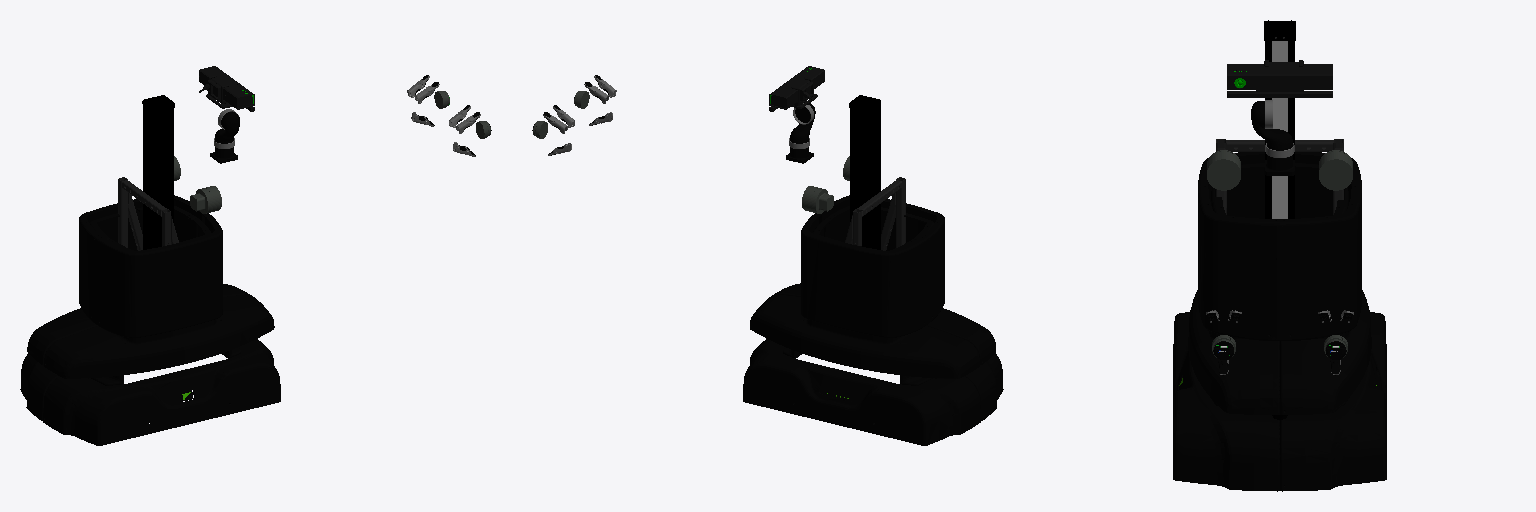
--- Render facts (derived) ---
Views: 3 orthographic renders of the robot side by side, from view 1: azimuth 30°, elevation 25°; view 2: azimuth 150°, elevation 25°; view 3: azimuth 270°, elevation 25°.
Model movo with 50 links and 49 joints (22 revolute, 2 prismatic, 25 fixed), rooted at base_link, posed all joints at 0.
Links seen in each view (by area): view 1: lower_body_link, mid_body_link, linear_actuator_fixed_link, kinect2_link, right_base_link, pan_link; view 2: lower_body_link, mid_body_link, linear_actuator_fixed_link, kinect2_link, left_base_link, pan_link; view 3: lower_body_link, mid_body_link, linear_actuator_fixed_link, kinect2_link, pan_link, right_base_link, left_base_link, pan_base_link.
Boxes of the visible links, <box> form: lower_body_link: <box>20,206,280,445</box>; mid_body_link: <box>79,195,222,337</box>; linear_actuator_fixed_link: <box>118,95,178,250</box>; kinect2_link: <box>199,66,254,111</box>; right_base_link: <box>190,186,221,213</box>; pan_link: <box>215,109,239,143</box>; lower_body_link: <box>743,206,1003,445</box>; mid_body_link: <box>801,195,944,337</box>; linear_actuator_fixed_link: <box>845,95,905,250</box>; kinect2_link: <box>769,66,824,111</box>; left_base_link: <box>802,186,833,213</box>; pan_link: <box>790,102,815,143</box>; lower_body_link: <box>1173,163,1386,491</box>; mid_body_link: <box>1198,152,1361,340</box>; linear_actuator_fixed_link: <box>1216,20,1343,218</box>; kinect2_link: <box>1227,60,1332,97</box>; pan_link: <box>1251,100,1292,150</box>; right_base_link: <box>1207,150,1240,190</box>; left_base_link: <box>1319,150,1352,190</box>; pan_base_link: <box>1265,143,1294,175</box>.
Size in the robot's own frame: 1.59 by 0.5097 by 1.06 metres.
24 mesh visuals loaded from 22 distinct referenced files (11 Collada DAE); not drawn: 18 (reference not matched to a file when rendering).

URDF robot description (movo):
<?xml version="1.0" ?>
<!-- =================================================================================== -->
<!-- |    This document was autogenerated by xacro from movo.urdf.xacro                | -->
<!-- |    EDITING THIS FILE BY HAND IS NOT RECOMMENDED                                 | -->
<!-- =================================================================================== -->
<!--
Software License Agreement (BSD)
\file      movo.urdf.xacro
\authors   Patrick Hussey
\copyright Copyright (c) 2017, Kinova Robotics inc. All rights reserved.
Redistribution and use in source and binary forms, with or without modification,
are permitted provided that the following conditions are met:
    * Redistributions of source code must retain the above copyright notice,
      this list of conditions and the following disclaimer.
    * Redistributions in binary form must reproduce the above copyright notice,
      this list of conditions and the following disclaimer in the documentation
      and/or other materials provided with the distribution.
    * Neither the name of the copyright holder nor the names of its contributors
      may be used to endorse or promote products derived from this software
      without specific prior written permission.
THIS SOFTWARE IS PROVIDED BY THE COPYRIGHT HOLDERS AND CONTRIBUTORS
"AS IS" AND ANY EXPRESS OR IMPLIED WARRANTIES, INCLUDING, BUT NOT
LIMITED TO, THE IMPLIED WARRANTIES OF MERCHANTABILITY AND FITNESS FOR
A PARTICULAR PURPOSE ARE DISCLAIMED. IN NO EVENT SHALL THE COPYRIGHT HOLDER OR
CONTRIBUTORS BE LIABLE FOR ANY DIRECT, INDIRECT, INCIDENTAL, SPECIAL,
EXEMPLARY, OR CONSEQUENTIAL DAMAGES (INCLUDING, BUT NOT LIMITED TO,
PROCUREMENT OF SUBSTITUTE GOODS OR SERVICES; LOSS OF USE, DATA, OR
PROFITS; OR BUSINESS INTERRUPTION) HOWEVER CAUSED AND ON ANY THEORY OF
LIABILITY, WHETHER IN CONTRACT, STRICT LIABILITY, OR TORT (INCLUDING
NEGLIGENCE OR OTHERWISE) ARISING IN ANY WAY OUT OF THE USE OF THIS
SOFTWARE, EVEN IF ADVISED OF THE POSSIBILITY OF SUCH DAMAGE.
-->
<robot name="movo" xmlns:xacro="http://ros.org/wiki/xacro">
  <!-- Included URDF/XACRO Files -->
  <gazebo>
    <plugin filename="libgazebo_ros_control.so" name="gazebo_ros_control">
      <robotNamespace>/</robotNamespace>
    </plugin>
    <plugin filename="libgazebo_ros_force_based_move.so" name="object_controller">
      <robotNamespace>/</robotNamespace>
      <commandTopic>/movo/cmd_vel</commandTopic>
      <odometryTopic>/movo/odometry/wheel_odometry</odometryTopic>
      <odometryFrame>odom</odometryFrame>
      <odometryRate>100.0</odometryRate>
      <cmdVelTimeOut>0.2</cmdVelTimeOut>
      <robotBaseFrame>base_link</robotBaseFrame>
      <publishOdometryTf>0</publishOdometryTf>
      <yaw_velocity_p_gain>500.0</yaw_velocity_p_gain>
      <x_velocity_p_gain>10000.0</x_velocity_p_gain>
      <y_velocity_p_gain>10000.0</y_velocity_p_gain>
    </plugin>
    <plugin filename="libgazebo_ros_p3d.so" name="gazebo_ros_p3d">
      <bodyName>base_link</bodyName>
      <topicName>ground_truth_odom</topicName>
      <alwaysOn>true</alwaysOn>
      <updateRate>100.0</updateRate>
    </plugin>
  </gazebo>
  <!-- Base link is the center of the robot's chassis between the motors projected on the ground -->
  <link name="base_link"/>
  <gazebo reference="base_link">
    <mu1>0.0</mu1>
  </gazebo>
  <joint name="base_chassis_joint" type="fixed">
    <origin rpy="0 0 0" xyz="0 0 0.0762"/>
    <parent link="base_link"/>
    <child link="base_chassis_link"/>
  </joint>
  <link name="base_chassis_link">
    <inertial>
      <mass value="44.2877"/>
      <origin xyz="-0.009506 -0.013039 0.032319"/>
      <inertia ixx="0.000165" ixy="0" ixz="0" iyx="0" iyy="0.000559" iyz="0" izx="0" izy="0" izz="0.000714"/>
    </inertial>
    <collision>
      <geometry>
        <mesh filename="meshes/movo_components/collision/vector_base_collision.stl"/>
      </geometry>
    </collision>
    <visual>
      <origin rpy="0 0 0" xyz="0 0 0"/>
      <geometry>
        <mesh filename="meshes/movo_components/visual/vector_base.dae"/>
      </geometry>
    </visual>
  </link>
  <gazebo reference="base_chassis_link">
    <laserRetro>0</laserRetro>
  </gazebo>
  <gazebo reference="base_chassis_link">
    <mu1>0.0</mu1>
  </gazebo>
  <joint name="linear_actuator_fixed_joint" type="fixed">
    <origin rpy="0 0 0" xyz="0 0 0"/>
    <parent link="base_chassis_link"/>
    <child link="linear_actuator_fixed_link"/>
  </joint>
  <link name="linear_actuator_fixed_link">
    <inertial>
      <mass value="15.877331"/>
      <origin xyz="0.013724 0.000002 0.509500"/>
      <inertia ixx="0.962473" ixy="0.000047" ixz="0.053722" iyx="0.000047" iyy="0.968691" iyz="-0.000058" izx="0.053722" izy="-0.000058" izz="0.098853"/>
    </inertial>
    <collision>
      <geometry>
        <mesh filename="meshes/movo_components/collision/movo_fixed_body_collision.stl"/>
      </geometry>
    </collision>
    <visual>
      <origin rpy="0 0 0" xyz="0 0 0"/>
      <geometry>
        <mesh filename="meshes/movo_components/visual/movo_fixed_payload.dae"/>
      </geometry>
    </visual>
  </link>
  <gazebo reference="linear_actuator_fixed_link">
    <laserRetro>0</laserRetro>
  </gazebo>
  <joint name="linear_joint" type="prismatic">
    <parent link="linear_actuator_fixed_link"/>
    <child link="linear_actuator_link"/>
    <origin rpy="0 0 0" xyz="0.0771402 0 0.3938763"/>
    <axis xyz="0 0 1"/>
    <limit effort="1000" lower="0.0" upper="0.472" velocity="0.20"/>
    <dynamics damping="0.0" friction="0.0"/>
  </joint>
  <link name="linear_actuator_link">
    <visual>
      <geometry>
        <mesh filename="meshes/movo_components/visual/movo_moving_payload.dae"/>
      </geometry>
    </visual>
    <collision>
      <geometry>
        <mesh filename="meshes/movo_components/collision/movo_upper_body_collision.stl"/>
      </geometry>
    </collision>
    <inertial>
      <mass value="12.926242"/>
      <origin xyz="-0.075467 -0.004693 0.397754"/>
      <inertia ixx="0.300410" ixy="-0.010043" ixz="-0.054146" iyx="-0.010043" iyy="0.296460" iyz="-0.024977" izx="-0.054146" izy="-0.024977" izz="0.294778"/>
    </inertial>
  </link>
  <gazebo reference="linear_actuator_link">
    <laserRetro>0</laserRetro>
  </gazebo>
  <transmission name="linear_trans">
    <type>transmission_interface/SimpleTransmission</type>
    <joint name="linear_joint">
      <hardwareInterface>PositionJointInterface</hardwareInterface>
    </joint>
    <actuator name="linear_motor">
      <mechanicalReduction>1</mechanicalReduction>
    </actuator>
  </transmission>
  <link name="sic_imu_frame"/>
  <joint name="sic_imu_joint" type="fixed">
    <origin rpy="3.14159 0 1.570795" xyz="0.0326421 0.0899448 0.0082008"/>
    <parent link="base_chassis_link"/>
    <child link="sic_imu_frame"/>
  </joint>
  <gazebo>
    <plugin filename="libhector_gazebo_ros_imu.so" name="sic_imu_controller">
      <alwaysOn>1</alwaysOn>
      <updateRate>50.0</updateRate>
      <bodyName>sic_imu_frame</bodyName>
      <topicName>/movo/feedback/sic_imu</topicName>
      <accelDrift>0.0005 0.0005 0.0005</accelDrift>
      <accelGaussianNoise>0.0005 0.0005 0.0005</accelGaussianNoise>
      <rateDrift>0.0005 0.0005 0.0005</rateDrift>
      <rateGaussianNoise>0.00005 0.00005 0.00005 </rateGaussianNoise>
      <headingDrift>0.00005</headingDrift>
      <headingGaussianNoise>0.00005</headingGaussianNoise>
    </plugin>
  </gazebo>
  <joint name="front_laser_joint" type="fixed">
    <origin rpy="3.14159 0 0" xyz="0.3375 0 0.1439106"/>
    <parent link="base_chassis_link"/>
    <child link="front_laser_link"/>
  </joint>
  <link name="front_laser_link">
    <visual>
      <geometry>
        <mesh filename="meshes/sensors/visual/sick_tim.dae"/>
      </geometry>
    </visual>
    <collision>
      <geometry>
        <box size="0.1 0.1 0.1"/>
      </geometry>
    </collision>
  </link>
  <gazebo reference="front_laser_link">
    <sensor name="front_laser" type="ray">
      <pose>0 0 0 0 0 0</pose>
      <visualize>false</visualize>
      <update_rate>15</update_rate>
      <ray>
        <scan>
          <horizontal>
            <samples>720</samples>
            <resolution>1</resolution>
            <min_angle>-2.0</min_angle>
            <max_angle>2.0</max_angle>
          </horizontal>
        </scan>
        <range>
          <min>0.1</min>
          <max>25.0</max>
          <resolution>0.01</resolution>
        </range>
        <noise>
          <type>gaussian</type>
          <mean>0.0</mean>
          <stddev>0.01</stddev>
        </noise>
      </ray>
      <plugin filename="libgazebo_ros_laser.so" name="front_laser_node">
        <topicName>/movo/front_scan</topicName>
        <frameName>front_laser_link</frameName>
      </plugin>
    </sensor>
  </gazebo>
  <joint name="rear_laser_joint" type="fixed">
    <origin rpy="3.14159 0 3.14159" xyz="-0.3375 0 0.1439106"/>
    <parent link="base_chassis_link"/>
    <child link="rear_laser_link"/>
  </joint>
  <link name="rear_laser_link">
    <visual>
      <geometry>
        <mesh filename="meshes/sensors/visual/sick_tim.dae"/>
      </geometry>
    </visual>
    <collision>
      <geometry>
        <box size="0.1 0.1 0.1"/>
      </geometry>
    </collision>
  </link>
  <gazebo reference="rear_laser_link">
    <sensor name="rear_laser" type="ray">
      <pose>0 0 0 0 0 0</pose>
      <visualize>false</visualize>
      <update_rate>15</update_rate>
      <ray>
        <scan>
          <horizontal>
            <samples>720</samples>
            <resolution>1</resolution>
            <min_angle>-2.0</min_angle>
            <max_angle>2.0</max_angle>
          </horizontal>
        </scan>
        <range>
          <min>0.1</min>
          <max>25.0</max>
          <resolution>0.01</resolution>
        </range>
        <noise>
          <type>gaussian</type>
          <mean>0.0</mean>
          <stddev>0.01</stddev>
        </noise>
      </ray>
      <plugin filename="libgazebo_ros_laser.so" name="rear_laser_node">
        <topicName>/movo/rear_scan</topicName>
        <frameName>rear_laser_link</frameName>
      </plugin>
    </sensor>
  </gazebo>
  <joint name="pan_base_joint" type="fixed">
    <origin rpy="0 0 0" xyz="0.19735 0 0.3449888"/>
    <parent link="linear_actuator_link"/>
    <child link="pan_base_link"/>
  </joint>
  <link name="pan_base_link">
    <visual>
      <geometry>
        <mesh filename="meshes/pan_tilt/visual/pan_tilt_base.dae"/>
      </geometry>
    </visual>
    <collision>
      <geometry>
        <mesh filename="meshes/pan_tilt/collision/pan_tilt_base.stl"/>
      </geometry>
    </collision>
    <inertial>
      <mass value="0.271282"/>
      <origin xyz="0.000098 -0.000007 0.034804"/>
      <inertia ixx="0.000158" ixy="0.000000" ixz="-0.000001" iyx="0.000000" iyy="0.000151" iyz="0.000000" izx="-0.000001" izy="0.000000" izz="0.000150"/>
    </inertial>
  </link>
  <joint name="pan_joint" type="revolute">
    <origin rpy="3.14159 0 0" xyz="0 0 0.05525"/>
    <axis xyz="0 0 1"/>
    <parent link="pan_base_link"/>
    <child link="pan_link"/>
    <limit effort="7.0" lower="-1.570796326794897" upper="1.570796326794897" velocity="0.907571211"/>
  </joint>
  <transmission name="pan_trans" type="SimpleTransmission">
    <type>transmission_interface/SimpleTransmission</type>
    <joint name="pan_joint">
      <hardwareInterface>PositionJointInterface</hardwareInterface>
    </joint>
    <actuator name="pan_actuator">
      <mechanicalReduction>1</mechanicalReduction>
    </actuator>
  </transmission>
  <link name="pan_link">
    <visual>
      <geometry>
        <mesh filename="meshes/pan_tilt/visual/pan_link.dae"/>
      </geometry>
    </visual>
    <collision>
      <origin rpy="0 0 0" xyz="0 0 0"/>
      <geometry>
        <mesh filename="meshes/pan_tilt/collision/pan_link.stl"/>
      </geometry>
    </collision>
    <inertial>
      <mass value="0.470548"/>
      <origin xyz="-0.000036 0.021015 -0.052191"/>
      <inertia ixx="0.000957" ixy="0.000000" ixz="0.000000" iyx="0.000000" iyy="0.000805" iyz="-0.000328" izx="0.000000" izy="-0.000328" izz="0.000353"/>
    </inertial>
  </link>
  <joint name="tilt_joint" type="revolute">
    <origin rpy="-1.570795 1.570795 0" xyz="0 0.026 -0.09075"/>
    <axis xyz="0 0 1"/>
    <parent link="pan_link"/>
    <child link="tilt_link"/>
    <limit effort="7.0" lower="-1.570796326794897" upper="1.570796326794897" velocity="0.907571211"/>
  </joint>
  <transmission name="tilt_trans" type="SimpleTransmission">
    <type>transmission_interface/SimpleTransmission</type>
    <joint name="tilt_joint">
      <hardwareInterface>PositionJointInterface</hardwareInterface>
    </joint>
    <actuator name="tilt_actuator">
      <mechanicalReduction>1</mechanicalReduction>
    </actuator>
  </transmission>
  <link name="tilt_link">
    <visual>
      <geometry>
        <mesh filename="meshes/pan_tilt/visual/tilt_link.dae"/>
      </geometry>
    </visual>
    <collision>
      <geometry>
        <mesh filename="meshes/pan_tilt/collision/tilt_link.stl"/>
      </geometry>
    </collision>
    <inertial>
      <mass value="0.434513"/>
      <origin xyz="0.037380 0.005753 -0.019367"/>
      <inertia ixx="0.000418" ixy="0.000123" ixz="-0.000065" iyx="0.000123" iyy="0.001134" iyz="-0.000003" izx="-0.000065" izy="-0.000003" izz="0.000967"/>
    </inertial>
  </link>
  <joint name="kinect2_joint" type="fixed">
    <origin rpy="-1.570795 0 -1.570795" xyz="0.05825 -0.0105875 -0.026"/>
    <parent link="tilt_link"/>
    <child link="kinect2_link"/>
  </joint>
  <link name="kinect2_link">
    <inertial>
      <mass value="1.4"/>
      <origin xyz="-0.000036 0.021015 -0.052191"/>
      <inertia ixx="0.0006835" ixy="-0.000042" ixz="0.000010" iyx="-0.000042" iyy="0.001197" iyz="0.000006" izx="0.000010" izy="0.000006" izz="0.007020"/>
    </inertial>
    <visual>
      <geometry>
        <mesh filename="meshes/sensors/visual/kinect_one.dae"/>
      </geometry>
    </visual>
    <collision>
      <geometry>
        <mesh filename="meshes/sensors/collision/kinect_one_collision.stl"/>
      </geometry>
    </collision>
  </link>
  <link name="kinect2_ir_link"/>
  <joint name="kinect2_ir_joint" type="fixed">
    <parent link="kinect2_link"/>
    <child link="kinect2_ir_link"/>
    <origin rpy="0 0 0" xyz="0.0245 -0.03325  0.04201"/>
  </joint>
  <link name="kinect2_ir_optical_frame"/>
  <joint name="kinect2_ir_optical_frame_joint" type="fixed">
    <origin rpy="-1.570795 0 -1.570795" xyz="0 0 0"/>
    <parent link="kinect2_ir_link"/>
    <child link="kinect2_ir_optical_frame"/>
  </joint>
  <link name="kinect2_rgb_link"/>
  <joint name="kinect2_rgb_joint" type="fixed">
    <parent link="kinect2_ir_link"/>
    <child link="kinect2_rgb_link"/>
    <origin rpy="0 0 0" xyz="0 -0.06175  0"/>
  </joint>
  <link name="kinect2_rgb_optical_frame"/>
  <joint name="kinect2_rgb_optical_joint" type="fixed">
    <parent link="kinect2_rgb_link"/>
    <child link="kinect2_rgb_optical_frame"/>
    <origin rpy="-1.570795 0 -1.570795" xyz="0 0 0"/>
  </joint>
  <gazebo reference="kinect2_ir_link">
    <sensor name="kinect2_ir_sensor" type="depth">
      <always_on>true</always_on>
      <update_rate>30.0</update_rate>
      <camera>
        <horizontal_fov>1.22172944444</horizontal_fov>
        <image>
          <format>L8</format>
          <width>512</width>
          <height>424</height>
        </image>
        <clip>
          <near>0.01</near>
          <far>100</far>
        </clip>
      </camera>
      <plugin filename="libgazebo_ros_openni_kinect.so" name="kinect2_ir_link_controller">
        <baseline>0.2</baseline>
        <alwaysOn>true</alwaysOn>
        <updateRate>1.0</updateRate>
        <cameraName>kinect2/sd/image_ir</cameraName>
        <imageTopicName>/kinect2/sd/image_ir</imageTopicName>
        <cameraInfoTopicName>/kinect2/sd/camera_info</cameraInfoTopicName>
        <depthImageTopicName>/kinect2/sd/image_depth</depthImageTopicName>
        <depthImageCameraInfoTopicName>/kinect2/sd/depth/camera_info</depthImageCameraInfoTopicName>
        <pointCloudTopicName>/kinect2/sd/points</pointCloudTopicName>
        <frameName>kinect2_ir_optical_frame</frameName>
        <pointCloudCutoff>0.1</pointCloudCutoff>
        <pointCloudCutoffMax>12.0</pointCloudCutoffMax>
        <distortionK1>0.0</distortionK1>
        <distortionK2>0.0</distortionK2>
        <distortionK3>0.0</distortionK3>
        <distortionT1>0.0</distortionT1>
        <distortionT2>0.0</distortionT2>
        <CxPrime>0</CxPrime>
        <Cx>0</Cx>
        <Cy>0</Cy>
        <focalLength>0</focalLength>
        <hackBaseline>0</hackBaseline>
      </plugin>
    </sensor>
    <material value="Gazebo/Red"/>
  </gazebo>
  <joint name="lower_body_joint" type="fixed">
    <origin rpy="0 0 0" xyz="0 0 0"/>
    <parent link="base_chassis_link"/>
    <child link="lower_body_link"/>
  </joint>
  <link name="lower_body_link">
    <inertial>
      <mass value="7.753378"/>
      <origin xyz="0.000143 0.000727 0.188079"/>
      <inertia ixx="0.339365" ixy="0.000325" ixz="0.000146" iyx="0.000325" iyy="0.590290" iyz="-0.001078" izx="0.000146" izy="-0.001078" izz="0.588946"/>
    </inertial>
    <visual>
      <origin rpy="0 0 0" xyz="0 0 0"/>
      <geometry>
        <mesh filename="meshes/movo_body/movo_lower_body.dae"/>
      </geometry>
    </visual>
  </link>
  <joint name="upper_body_joint" type="fixed">
    <origin rpy="0 0 0" xyz="0 0 0"/>
    <parent link="linear_actuator_link"/>
    <child link="upper_body_link"/>
  </joint>
  <link name="upper_body_link">
    <inertial>
      <mass value="6.246912"/>
      <origin xyz="-0.080608 0.000290 0.286026"/>
      <inertia ixx="0.425973" ixy="0.000022" ixz="-0.015916" iyx="0.000022" iyy="0.439921" iyz="-0.000555" izx="-0.015916" izy="-0.000555" izz="0.305785"/>
    </inertial>
    <visual>
      <origin rpy="0 0 0" xyz="0 0 0"/>
      <geometry>
        <mesh filename="meshes/movo_body/movo_upper_body.dae"/>
      </geometry>
    </visual>
  </link>
  <joint name="mid_body_joint" type="prismatic">
    <parent link="base_chassis_link"/>
    <child link="mid_body_link"/>
    <origin rpy="0 0 0" xyz="0.0771402 0 0.3938763"/>
    <axis xyz="0 0 1"/>
    <limit effort="1000" lower="0.0" upper="0.2545608" velocity="0.20"/>
    <dynamics damping="0.0" friction="0.0"/>
    <mimic joint="linear_joint" multiplier="0.5" offset="0.0"/>
  </joint>
  <link name="mid_body_link">
    <inertial>
      <mass value="2.246837"/>
      <origin xyz="-0.077140 0.000000 0.026602"/>
      <inertia ixx="0.067276" ixy="0.000000" ixz="0.000000" iyx="0.000000" iyy="0.073946" iyz="0.000000" izx="0.000000" izy="0.000000" izz="0.102656"/>
    </inertial>
    <visual>
      <origin rpy="0 0 0" xyz="0 0 0"/>
      <geometry>
        <mesh filename="meshes/movo_body/movo_mid_body.dae"/>
      </geometry>
    </visual>
  </link>
  <gazebo reference="mid_body_link">
    <gravity>0</gravity>
  </gazebo>
  <gazebo>
    <!-- loading plugin: mimic joints works in gazebo now -->
    <plugin filename="libroboticsgroup_gazebo_mimic_joint_plugin.so" name="mid_body_mimic">
      <joint>linear_joint</joint>
      <mimicJoint>mid_body_joint</mimicJoint>
      <multiplier>0.5</multiplier>
      <offset>0.0</offset>
      <maxEffort>100000.0</maxEffort>
    </plugin>
  </gazebo>
  <joint name="right_kinova_joint" type="fixed">
    <parent link="linear_actuator_link"/>
    <child link="right_base_link"/>
    <origin rpy="-1.570796325 0 -1.570796325" xyz="0.0261046 -0.13335 0.2799937"/>
  </joint>
  <link name="right_base_link">
    <visual>
      <geometry>
        <mesh filename="meshes/manipulation/jaco/visual/base.dae"/>
      </geometry>
    </visual>
    <collision>
      <geometry>
        <mesh filename="meshes/manipulation/jaco/collision/base.stl"/>
      </geometry>
    </collision>
    <inertial>
      <mass value="0.649618"/>
      <origin xyz="-0.000146 0.0 0.031039"/>
      <inertia ixx="0.000652" ixy="-0.000000" ixz="0.000001" iyx="0.000000" iyy="0.000646" iyz="0.000000" izx="0.000001" izy="0.000000" izz="0.000480"/>
    </inertial>
  </link>
  <gazebo reference="right_base_link">
    <implicitSpringDamper>1</implicitSpringDamper>
    <kp>1000000.0</kp>
    <kd>100.0</kd>
    <mu1>1.0</mu1>
    <mu2>1.0</mu2>
    <maxVel>100.0</maxVel>
    <minDepth>0.001</minDepth>
  </gazebo>
  <joint name="right_shoulder_pan_joint" type="revolute">
    <parent link="right_base_link"/>
    <child link="right_shoulder_link"/>
    <origin rpy="0 3.14159265 0" xyz="0 0 0.0625"/>
    <axis xyz="0 0 1"/>
    <limit effort="18000.0" lower="-3.14159265" upper="3.14159265" velocity="0.691150384"/>
    <dynamics damping="0.01" friction="0.0"/>
  </joint>
  <link name="right_shoulder_link">
    <visual>
      <geometry>
        <mesh filename="meshes/manipulation/jaco/visual/shoulder_7dof.dae"/>
      </geometry>
    </visual>
    <collision>
      <geometry>
        <mesh filename="meshes/manipulation/jaco/collision/shoulder_7dof.stl"/>
      </geometry>
    </collision>
    <inertial>
      <mass value="0.824524"/>
      <origin xyz="0.000018 -0.004667 -0.060609"/>
      <inertia ixx="0.002561" ixy="0.000000" ixz="0.000001" iyx="0.000000" iyy="0.002653" iyz="0.000212" izx="0.000001" izy="0.000212" izz="0.000524"/>
    </inertial>
  </link>
  <gazebo reference="right_shoulder_link">
    <implicitSpringDamper>1</implicitSpringDamper>
    <kp>1000000.0</kp>
    <kd>100.0</kd>
    <mu1>1.0</mu1>
    <mu2>1.0</mu2>
    <maxVel>100.0</maxVel>
    <minDepth>0.001</minDepth>
  </gazebo>
  <joint name="right_shoulder_lift_joint" type="revolute">
    <parent link="right_shoulder_link"/>
    <child link="right_arm_half_1_link"/>
    <origin rpy="1.570796325 0 0" xyz="0 0 -0.11875"/>
    <axis xyz="0 0 1"/>
    <limit effort="30000.5" lower="-2.238" upper="2.238" velocity="0.691150384"/>
    <dynamics damping="0.01" friction="0.0"/>
  </joint>
  <link name="right_arm_half_1_link">
    <visual>
      <geometry>
        <mesh filename="meshes/manipulation/jaco/visual/arm_half_1.dae"/>
      </geometry>
    </visual>
    <collision>
      <geometry>
        <mesh filename="meshes/manipulation/jaco/collision/arm_half_1.stl"/>
      </geometry>
    </collision>
    <inertial>
      <mass value="0.8447"/>
      <origin xyz="0 -0.103563213 0"/>
      <inertia ixx="0.000435" ixy="0.000002" ixz="0.000231" iyx="0.000002" iyy="0.034947" iyz="0.000000" izx="0.000231" izy="0.000000" izz="0.035198"/>
    </inertial>
  </link>
  <gazebo reference="right_arm_half_1_link">
    <implicitSpringDamper>1</implicitSpringDamper>
    <kp>1000000.0</kp>
    <kd>100.0</kd>
    <mu1>1.0</mu1>
    <mu2>1.0</mu2>
    <maxVel>100.0</maxVel>
    <minDepth>0.001</minDepth>
  </gazebo>
  <joint name="right_arm_half_joint" type="revolute">
    <parent link="right_arm_half_1_link"/>
    <child link="right_arm_half_2_link"/>
    <origin rpy="-1.570796325 0 0" xyz="0 -0.205 0"/>
    <axis xyz="0 0 1"/>
    <limit effort="30000.5" lower="-3.14159265" upper="3.14159265" velocity="0.691150384"/>
    <dynamics damping="0.01" friction="0.0"/>
  </joint>
  <link name="right_arm_half_2_link">
    <visual>
      <geometry>
        <mesh filename="meshes/manipulation/jaco/visual/arm_half_2.dae"/>
      </geometry>
    </visual>
    <collision>
      <geometry>
        <mesh filename="meshes/manipulation/jaco/collision/arm_half_2.stl"/>
      </geometry>
    </collision>
    <inertial>
      <mass value="0.8447"/>
      <origin xyz="0 0 -0.1022447445"/>
      <inertia ixx="0.000435" ixy="0.000002" ixz="0.000231" iyx="0.000002" iyy="0.034947" iyz="0.000000" izx="0.000231" izy="0.000000" izz="0.035198"/>
    </inertial>
  </link>
  <gazebo reference="right_arm_half_2_link">
    <implicitSpringDamper>1</implicitSpringDamper>
    <kp>1000000.0</kp>
    <kd>100.0</kd>
    <mu1>1.0</mu1>
    <mu2>1.0</mu2>
    <maxVel>100.0</maxVel>
    <minDepth>0.001</minDepth>
  </gazebo>
  <joint name="right_elbow_joint" type="revolute">
    <parent link="right_arm_half_2_link"/>
    <child link="right_forearm_link"/>
    <origin rpy="-1.570796325 0 0" xyz="0 0 -0.205"/>
    <axis xyz="0 0 1"/>
    <limit effort="18000.0" lower="-2.809" upper="2.809" velocity="0.691150384"/>
    <dynamics damping="0.01" friction="0.0"/>
  </joint>
  <link name="right_forearm_link">
    <visual>
      <geometry>
        <mesh filename="meshes/manipulation/jaco/visual/forearm_7dof.dae"/>
      </geometry>
    </visual>
    <collision>
      <geometry>
        <mesh filename="meshes/manipulation/jaco/collision/forearm_7dof.stl"/>
      </geometry>
    </collision>
    <inertial>
      <mass value="0.674254"/>
      <origin xyz="0 0.081 -0.0086"/>
      <inertia ixx="0.005453" ixy="0.000003" ixz="0.000000" iyx="0.000003" iyy="0.000305" iyz="0.000087" izx="0.000000" izy="0.000087" izz="0.005578"/>
    </inertial>
  </link>
  <joint name="right_wrist_spherical_1_joint" type="revolute">
    <parent link="right_forearm_link"/>
    <child link="right_wrist_spherical_1_link"/>
    <!--  <origin xyz="0 0.20725 0 " rpy="${wrist_spherical_1_joint_rpy}" /> -->
    <origin rpy="1.570796325 3.14159265 0" xyz="0 0.2073 -0.0114"/>
    <axis xyz="0 0 1"/>
    <limit effort="60000.8" lower="-3.14159265" upper="3.14159265" velocity="0.921533845"/>
    <dynamics damping="0.01" friction="0.0"/>
  </joint>
  <link name="right_wrist_spherical_1_link">
    <visual>
      <geometry>
        <mesh filename="meshes/manipulation/jaco/visual/wrist_spherical_1.dae"/>
      </geometry>
    </visual>
    <collision>
      <geometry>
        <mesh filename="meshes/manipulation/jaco/collision/wrist_spherical_1.stl"/>
      </geometry>
    </collision>
    <inertial>
      <mass value="0.463"/>
      <origin xyz="0 0.0028848942 -0.0541932613"/>
      <inertia ixx="0.000392" ixy="0.000000" ixz="0.000000" iyx="0.000000" iyy="0.000347" iyz="0.000101" izx="0.000000" izy="0.000101" izz="0.000233"/>
    </inertial>
  </link>
  <gazebo reference="right_wrist_spherical_1_link">
    <implicitSpringDamper>1</implicitSpringDamper>
    <kp>1000000.0</kp>
    <kd>100.0</kd>
    <mu1>1.0</mu1>
    <mu2>1.0</mu2>
    <maxVel>100.0</maxVel>
    <minDepth>0.001</minDepth>
  </gazebo>
  <joint name="right_wrist_spherical_2_joint" type="revolute">
    <parent link="right_wrist_spherical_1_link"/>
    <child link="right_wrist_spherical_2_link"/>
    <origin rpy="-1.570796325 0 0" xyz="0 0 -0.10375 "/>
    <axis xyz="0 0 1"/>
    <limit effort="60000.8" lower="-2.78" upper="2.78" velocity="0.921533845"/>
    <dynamics damping="0.01" friction="0.0"/>
  </joint>
  <link name="right_wrist_spherical_2_link">
    <visual>
      <geometry>
        <mesh filename="meshes/manipulation/jaco/visual/wrist_spherical_2.dae"/>
      </geometry>
    </visual>
    <collision>
      <geometry>
        <mesh filename="meshes/manipulation/jaco/collision/wrist_spherical_2.stl"/>
      </geometry>
    </collision>
    <inertial>
      <mass value="0.463"/>
      <origin xyz="0 0.0497208855 -0.0028562765"/>
      <inertia ixx="0.000392" ixy="0.000000" ixz="0.000000" iyx="0.000000" iyy="0.000347" iyz="0.000101" izx="0.000000" izy="0.000101" izz="0.000233"/>
    </inertial>
  </link>
  <gazebo reference="right_wrist_spherical_2_link">
    <implicitSpringDamper>1</implicitSpringDamper>
    <kp>1000000.0</kp>
    <kd>100.0</kd>
    <mu1>1.0</mu1>
    <mu2>1.0</mu2>
    <maxVel>100.0</maxVel>
    <minDepth>0.001</minDepth>
  </gazebo>
  <joint name="right_wrist_3_joint" type="revolute">
    <parent link="right_wrist_spherical_2_link"/>
    <child link="right_wrist_3_link"/>
    <origin rpy="1.570796325 3.14159265 0" xyz="0 0.10375 0"/>
    <axis xyz="0 0 1"/>
    <limit effort="60000.8" lower="-3.14159265" upper="3.14159265" velocity="0.921533845"/>
    <dynamics damping="0.01" friction="0.0"/>
  </joint>
  <link name="right_wrist_3_link">
    <visual>
      <geometry>
        <mesh filename="meshes/manipulation/jaco/visual/kinova_actuator_gearing.dae"/>
      </geometry>
    </visual>
    <collision>
      <geometry>
        <mesh filename="meshes/manipulation/jaco/collision/kinova_actuator_gearing.stl"/>
      </geometry>
    </collision>
    <inertial>
      <mass value="0.190782"/>
      <origin xyz="-0.00082 0.000048 -0.216121"/>
      <inertia ixx="0.000048" ixy="0.000000" ixz="0.000000" iyx="0.000000" iyy="0.000049" iyz="0.000000" izx="0.000000" izy="0.000000" izz="0.000072"/>
    </inertial>
  </link>
  <gazebo reference="right_wrist_3_link">
    <implicitSpringDamper>1</implicitSpringDamper>
    <kp>1000000.0</kp>
    <kd>100.0</kd>
    <mu1>1.0</mu1>
    <mu2>1.0</mu2>
    <maxVel>100.0</maxVel>
    <minDepth>0.001</minDepth>
  </gazebo>
  <!-- 0 0 -0.1600 -->
  <joint name="right_ee_fixed_joint" type="fixed">
    <parent link="right_wrist_3_link"/>
    <child link="right_ee_link"/>
    <origin rpy="3.14159265 1.570796325 0" xyz="0 0 0.0"/>
  </joint>
  <link name="right_ee_link"/>
  <transmission name="right_shoulder_pan_trans">
    <type>transmission_interface/SimpleTransmission</type>
    <joint name="right_shoulder_pan_joint">
      <hardwareInterface>PositionJointInterface</hardwareInterface>
    </joint>
    <actuator name="right_shoulder_pan_motor">
      <mechanicalReduction>1</mechanicalReduction>
    </actuator>
  </transmission>
  <transmission name="right_shoulder_lift_trans">
    <type>transmission_interface/SimpleTransmission</type>
    <joint name="right_shoulder_lift_joint">
      <hardwareInterface>PositionJointInterface</hardwareInterface>
    </joint>
    <actuator name="right_shoulder_lift_motor">
      <mechanicalReduction>1</mechanicalReduction>
    </actuator>
  </transmission>
  <transmission name="right_half_arm_trans">
    <type>transmission_interface/SimpleTransmission</type>
    <joint name="right_arm_half_joint">
      <hardwareInterface>PositionJointInterface</hardwareInterface>
    </joint>
    <actuator name="right_arm_half_motor">
      <mechanicalReduction>1</mechanicalReduction>
    </actuator>
  </transmission>
  <transmission name="right_elbow_trans">
    <type>transmission_interface/SimpleTransmission</type>
    <joint name="right_elbow_joint">
      <hardwareInterface>PositionJointInterface</hardwareInterface>
    </joint>
    <actuator name="right_elbow_motor">
      <mechanicalReduction>1</mechanicalReduction>
    </actuator>
  </transmission>
  <transmission name="right_wrist_spherical_1_trans">
    <type>transmission_interface/SimpleTransmission</type>
    <joint name="right_wrist_spherical_1_joint">
      <hardwareInterface>PositionJointInterface</hardwareInterface>
    </joint>
    <actuator name="right_wrist_spherical_1_motor">
      <mechanicalReduction>1</mechanicalReduction>
    </actuator>
  </transmission>
  <transmission name="right_wrist_spherical_2_trans">
    <type>transmission_interface/SimpleTransmission</type>
    <joint name="right_wrist_spherical_2_joint">
      <hardwareInterface>PositionJointInterface</hardwareInterface>
    </joint>
    <actuator name="right_wrist_spherical_2_motor">
      <mechanicalReduction>1</mechanicalReduction>
    </actuator>
  </transmission>
  <transmission name="right_wrist_3_trans">
    <type>transmission_interface/SimpleTransmission</type>
    <joint name="right_wrist_3_joint">
      <hardwareInterface>PositionJointInterface</hardwareInterface>
    </joint>
    <actuator name="right_wrist_3_motor">
      <mechanicalReduction>1</mechanicalReduction>
    </actuator>
  </transmission>
  <joint name="left_kinova_joint" type="fixed">
    <parent link="linear_actuator_link"/>
    <child link="left_base_link"/>
    <origin rpy="-1.570796325 0 -1.570796325" xyz="0.0261046 0.13335 0.2799937"/>
  </joint>
  <link name="left_base_link">
    <visual>
      <geometry>
        <mesh filename="meshes/manipulation/jaco/visual/base.dae"/>
      </geometry>
    </visual>
    <collision>
      <geometry>
        <mesh filename="meshes/manipulation/jaco/collision/base.stl"/>
      </geometry>
    </collision>
    <inertial>
      <mass value="0.649618"/>
      <origin xyz="-0.000146 0.0 0.031039"/>
      <inertia ixx="0.000652" ixy="-0.000000" ixz="0.000001" iyx="0.000000" iyy="0.000646" iyz="0.000000" izx="0.000001" izy="0.000000" izz="0.000480"/>
    </inertial>
  </link>
  <gazebo reference="left_base_link">
    <implicitSpringDamper>1</implicitSpringDamper>
    <kp>1000000.0</kp>
    <kd>100.0</kd>
    <mu1>1.0</mu1>
    <mu2>1.0</mu2>
    <maxVel>100.0</maxVel>
    <minDepth>0.001</minDepth>
  </gazebo>
  <joint name="left_shoulder_pan_joint" type="revolute">
    <parent link="left_base_link"/>
    <child link="left_shoulder_link"/>
    <origin rpy="0 3.14159265 0" xyz="0 0 0.0625"/>
    <axis xyz="0 0 1"/>
    <limit effort="18000.0" lower="-3.14159265" upper="3.14159265" velocity="0.691150384"/>
    <dynamics damping="0.01" friction="0.0"/>
  </joint>
  <link name="left_shoulder_link">
    <visual>
      <geometry>
        <mesh filename="meshes/manipulation/jaco/visual/shoulder_7dof.dae"/>
      </geometry>
    </visual>
    <collision>
      <geometry>
        <mesh filename="meshes/manipulation/jaco/collision/shoulder_7dof.stl"/>
      </geometry>
    </collision>
    <inertial>
      <mass value="0.824524"/>
      <origin xyz="0.000018 -0.004667 -0.060609"/>
      <inertia ixx="0.002561" ixy="0.000000" ixz="0.000001" iyx="0.000000" iyy="0.002653" iyz="0.000212" izx="0.000001" izy="0.000212" izz="0.000524"/>
    </inertial>
  </link>
  <gazebo reference="left_shoulder_link">
    <implicitSpringDamper>1</implicitSpringDamper>
    <kp>1000000.0</kp>
    <kd>100.0</kd>
    <mu1>1.0</mu1>
    <mu2>1.0</mu2>
    <maxVel>100.0</maxVel>
    <minDepth>0.001</minDepth>
  </gazebo>
  <joint name="left_shoulder_lift_joint" type="revolute">
    <parent link="left_shoulder_link"/>
    <child link="left_arm_half_1_link"/>
    <origin rpy="1.570796325 0 0" xyz="0 0 -0.11875"/>
    <!--origin rpy="1.570796325 0 0" xyz="0 0.0016 -0.11875"/-->
    <axis xyz="0 0 1"/>
    <limit effort="30000.5" lower="-2.238" upper="2.238" velocity="0.691150384"/>
    <dynamics damping="0.01" friction="0.0"/>
  </joint>
  <link name="left_arm_half_1_link">
    <visual>
      <geometry>
        <mesh filename="meshes/manipulation/jaco/visual/arm_half_1.dae"/>
      </geometry>
    </visual>
    <collision>
      <geometry>
        <mesh filename="meshes/manipulation/jaco/collision/arm_half_1.stl"/>
      </geometry>
    </collision>
    <inertial>
      <mass value="0.8447"/>
      <origin xyz="0 -0.103563213 0"/>
      <inertia ixx="0.000435" ixy="0.000002" ixz="0.000231" iyx="0.000002" iyy="0.034947" iyz="0.000000" izx="0.000231" izy="0.000000" izz="0.035198"/>
    </inertial>
  </link>
  <gazebo reference="left_arm_half_1_link">
    <implicitSpringDamper>1</implicitSpringDamper>
    <kp>1000000.0</kp>
    <kd>100.0</kd>
    <mu1>1.0</mu1>
    <mu2>1.0</mu2>
    <maxVel>100.0</maxVel>
    <minDepth>0.001</minDepth>
  </gazebo>
  <joint name="left_arm_half_joint" type="revolute">
    <parent link="left_arm_half_1_link"/>
    <child link="left_arm_half_2_link"/>
    <origin rpy="-1.570796325 0 0" xyz="0 -0.205 0"/>
    <axis xyz="0 0 1"/>
    <limit effort="30000.5" lower="-3.14159265" upper="3.14159265" velocity="0.691150384"/>
    <dynamics damping="0.01" friction="0.0"/>
  </joint>
  <link name="left_arm_half_2_link">
    <visual>
      <geometry>
        <mesh filename="meshes/manipulation/jaco/visual/arm_half_2.dae"/>
      </geometry>
    </visual>
    <collision>
      <geometry>
        <mesh filename="meshes/manipulation/jaco/collision/arm_half_2.stl"/>
      </geometry>
    </collision>
    <inertial>
      <mass value="0.8447"/>
      <origin xyz="0 0 -0.1022447445"/>
      <inertia ixx="0.000435" ixy="0.000002" ixz="0.000231" iyx="0.000002" iyy="0.034947" iyz="0.000000" izx="0.000231" izy="0.000000" izz="0.035198"/>
    </inertial>
  </link>
  <gazebo reference="left_arm_half_2_link">
    <implicitSpringDamper>1</implicitSpringDamper>
    <kp>1000000.0</kp>
    <kd>100.0</kd>
    <mu1>1.0</mu1>
    <mu2>1.0</mu2>
    <maxVel>100.0</maxVel>
    <minDepth>0.001</minDepth>
  </gazebo>
  <joint name="left_elbow_joint" type="revolute">
    <parent link="left_arm_half_2_link"/>
    <child link="left_forearm_link"/>
    <origin rpy="-1.570796325 0 0" xyz="0 0 -0.205"/>
    <axis xyz="0 0 1"/>
    <limit effort="18000.0" lower="-2.809" upper="2.809" velocity="0.691150384"/>
    <dynamics damping="0.01" friction="0.0"/>
  </joint>
  <link name="left_forearm_link">
    <visual>
      <geometry>
        <mesh filename="meshes/manipulation/jaco/visual/forearm_7dof.dae"/>
      </geometry>
    </visual>
    <collision>
      <geometry>
        <mesh filename="meshes/manipulation/jaco/collision/forearm_7dof.stl"/>
      </geometry>
    </collision>
    <inertial>
      <mass value="0.674254"/>
      <origin xyz="0 0.081 -0.0086"/>
      <inertia ixx="0.005453" ixy="0.000003" ixz="0.000000" iyx="0.000003" iyy="0.000305" iyz="0.000087" izx="0.000000" izy="0.000087" izz="0.005578"/>
    </inertial>
  </link>
  <joint name="left_wrist_spherical_1_joint" type="revolute">
    <parent link="left_forearm_link"/>
    <child link="left_wrist_spherical_1_link"/>
    <!--  <origin xyz="0 0.20725 0 " rpy="${wrist_spherical_1_joint_rpy}" /> -->
    <origin rpy="1.570796325 3.14159265 0" xyz="0 0.2073 -0.0114"/>
    <axis xyz="0 0 1"/>
    <limit effort="60000.8" lower="-3.14159265" upper="3.14159265" velocity="0.921533845"/>
    <dynamics damping="0.01" friction="0.0"/>
  </joint>
  <link name="left_wrist_spherical_1_link">
    <visual>
      <geometry>
        <mesh filename="meshes/manipulation/jaco/visual/wrist_spherical_1.dae"/>
      </geometry>
    </visual>
    <collision>
      <geometry>
        <mesh filename="meshes/manipulation/jaco/collision/wrist_spherical_1.stl"/>
      </geometry>
    </collision>
    <inertial>
      <mass value="0.463"/>
      <origin xyz="0 0.0028848942 -0.0541932613"/>
      <inertia ixx="0.000392" ixy="0.000000" ixz="0.000000" iyx="0.000000" iyy="0.000347" iyz="0.000101" izx="0.000000" izy="0.000101" izz="0.000233"/>
    </inertial>
  </link>
  <gazebo reference="left_wrist_spherical_1_link">
    <implicitSpringDamper>1</implicitSpringDamper>
    <kp>1000000.0</kp>
    <kd>100.0</kd>
    <mu1>1.0</mu1>
    <mu2>1.0</mu2>
    <maxVel>100.0</maxVel>
    <minDepth>0.001</minDepth>
  </gazebo>
  <joint name="left_wrist_spherical_2_joint" type="revolute">
    <parent link="left_wrist_spherical_1_link"/>
    <child link="left_wrist_spherical_2_link"/>
    <origin rpy="-1.570796325 0 0" xyz="0 0 -0.10375 "/>
    <axis xyz="0 0 1"/>
    <limit effort="60000.8" lower="-2.78" upper="2.78" velocity="0.921533845"/>
    <dynamics damping="0.01" friction="0.0"/>
  </joint>
  <link name="left_wrist_spherical_2_link">
    <visual>
      <geometry>
        <mesh filename="meshes/manipulation/jaco/visual/wrist_spherical_2.dae"/>
      </geometry>
    </visual>
    <collision>
      <geometry>
        <mesh filename="meshes/manipulation/jaco/collision/wrist_spherical_2.stl"/>
      </geometry>
    </collision>
    <inertial>
      <mass value="0.463"/>
      <origin xyz="0 0.0497208855 -0.0028562765"/>
      <inertia ixx="0.000392" ixy="0.000000" ixz="0.000000" iyx="0.000000" iyy="0.000347" iyz="0.000101" izx="0.000000" izy="0.000101" izz="0.000233"/>
    </inertial>
  </link>
  <gazebo reference="left_wrist_spherical_2_link">
    <implicitSpringDamper>1</implicitSpringDamper>
    <kp>1000000.0</kp>
    <kd>100.0</kd>
    <mu1>1.0</mu1>
    <mu2>1.0</mu2>
    <maxVel>100.0</maxVel>
    <minDepth>0.001</minDepth>
  </gazebo>
  <joint name="left_wrist_3_joint" type="revolute">
    <parent link="left_wrist_spherical_2_link"/>
    <child link="left_wrist_3_link"/>
    <origin rpy="1.570796325 3.14159265 0" xyz="0 0.10375 0"/>
    <axis xyz="0 0 1"/>
    <limit effort="60000.8" lower="-3.14159265" upper="3.14159265" velocity="0.921533845"/>
    <dynamics damping="0.01" friction="0.0"/>
  </joint>
  <link name="left_wrist_3_link">
    <visual>
      <geometry>
        <mesh filename="meshes/manipulation/jaco/visual/kinova_actuator_gearing.dae"/>
      </geometry>
    </visual>
    <collision>
      <geometry>
        <mesh filename="meshes/manipulation/jaco/collision/kinova_actuator_gearing.stl"/>
      </geometry>
    </collision>
    <inertial>
      <mass value="0.190782"/>
      <origin xyz="-0.00082 0.000048 -0.216121"/>
      <inertia ixx="0.000048" ixy="0.000000" ixz="0.000000" iyx="0.000000" iyy="0.000049" iyz="0.000000" izx="0.000000" izy="0.000000" izz="0.000072"/>
    </inertial>
  </link>
  <gazebo reference="left_wrist_3_link">
    <implicitSpringDamper>1</implicitSpringDamper>
    <kp>1000000.0</kp>
    <kd>100.0</kd>
    <mu1>1.0</mu1>
    <mu2>1.0</mu2>
    <maxVel>100.0</maxVel>
    <minDepth>0.001</minDepth>
  </gazebo>
  <joint name="left_ee_fixed_joint" type="fixed">
    <parent link="left_wrist_3_link"/>
    <child link="left_ee_link"/>
    <origin rpy="3.14159265 1.570796325 0" xyz="0 0 0.0"/>
  </joint>
  <link name="left_ee_link"/>
  <transmission name="left_shoulder_pan_trans">
    <type>transmission_interface/SimpleTransmission</type>
    <joint name="left_shoulder_pan_joint">
      <hardwareInterface>PositionJointInterface</hardwareInterface>
    </joint>
    <actuator name="left_shoulder_pan_motor">
      <mechanicalReduction>1</mechanicalReduction>
    </actuator>
  </transmission>
  <transmission name="left_shoulder_lift_trans">
    <type>transmission_interface/SimpleTransmission</type>
    <joint name="left_shoulder_lift_joint">
      <hardwareInterface>PositionJointInterface</hardwareInterface>
    </joint>
    <actuator name="left_shoulder_lift_motor">
      <mechanicalReduction>1</mechanicalReduction>
    </actuator>
  </transmission>
  <transmission name="left_half_arm_trans">
    <type>transmission_interface/SimpleTransmission</type>
    <joint name="left_arm_half_joint">
      <hardwareInterface>PositionJointInterface</hardwareInterface>
    </joint>
    <actuator name="left_arm_half_motor">
      <mechanicalReduction>1</mechanicalReduction>
    </actuator>
  </transmission>
  <transmission name="left_elbow_trans">
    <type>transmission_interface/SimpleTransmission</type>
    <joint name="left_elbow_joint">
      <hardwareInterface>PositionJointInterface</hardwareInterface>
    </joint>
    <actuator name="left_elbow_motor">
      <mechanicalReduction>1</mechanicalReduction>
    </actuator>
  </transmission>
  <transmission name="left_wrist_spherical_1_trans">
    <type>transmission_interface/SimpleTransmission</type>
    <joint name="left_wrist_spherical_1_joint">
      <hardwareInterface>PositionJointInterface</hardwareInterface>
    </joint>
    <actuator name="left_wrist_spherical_1_motor">
      <mechanicalReduction>1</mechanicalReduction>
    </actuator>
  </transmission>
  <transmission name="left_wrist_spherical_2_trans">
    <type>transmission_interface/SimpleTransmission</type>
    <joint name="left_wrist_spherical_2_joint">
      <hardwareInterface>PositionJointInterface</hardwareInterface>
    </joint>
    <actuator name="left_wrist_spherical_2_motor">
      <mechanicalReduction>1</mechanicalReduction>
    </actuator>
  </transmission>
  <transmission name="left_wrist_3_trans">
    <type>transmission_interface/SimpleTransmission</type>
    <joint name="left_wrist_3_joint">
      <hardwareInterface>PositionJointInterface</hardwareInterface>
    </joint>
    <actuator name="left_wrist_3_motor">
      <mechanicalReduction>1</mechanicalReduction>
    </actuator>
  </transmission>
  <joint name="right_gripper_base_joint" type="fixed">
    <parent link="right_ee_link"/>
    <child link="right_gripper_base_link"/>
    <origin rpy="-3.14159265 1.570796325 0" xyz="-0.16 0 0"/>
  </joint>
  <link name="right_gripper_base_link">
    <visual>
      <geometry>
        <mesh filename="meshes/manipulation/kinova_grippers/visual/kg3_base_link.dae"/>
      </geometry>
    </visual>
    <collision>
      <geometry>
        <mesh filename="meshes/manipulation/kinova_grippers/collision/kg3_base_link.stl"/>
      </geometry>
    </collision>
    <inertial>
      <mass value="0.799312"/>
      <origin xyz="0.000007 -0.005175 -0.067280"/>
      <inertia ixx="0.000790" ixy="0.000000" ixz="0.000004" iyx="0.000000" iyy="0.000650" iyz="0.000003" izx="0.000004" izy="0.000003" izz="0.000823"/>
    </inertial>
  </link>
  <gazebo reference="right_gripper_base_link">
    <!--implicitSpringDamper>1</implicitSpringDamper-->
    <kp>1000000.0</kp>
    <kd>1.0</kd>
    <mu1>0.8</mu1>
    <mu2>0.8</mu2>
    <maxVel>0.0</maxVel>
    <minDepth>0.0001</minDepth>
  </gazebo>
  <joint name="right_gripper_finger1_joint" type="revolute">
    <parent link="right_gripper_base_link"/>
    <child link="right_gripper_finger1_knuckle_link"/>
    <axis xyz="0 0 1"/>
    <origin rpy="1.4676 -0.0092813 -1.7501" xyz="-0.0027954 0.031318 -0.11464"/>
    <limit damping="0.005" effort="3.0" friction="0.005" lower="0.0" upper="0.986111027" velocity="1.0"/>
  </joint>
  <link name="right_gripper_finger1_knuckle_link">
    <visual>
      <geometry>
        <mesh filename="meshes/manipulation/kinova_grippers/visual/finger_knuckle.dae"/>
      </geometry>
    </visual>
    <collision>
      <geometry>
        <mesh filename="meshes/manipulation/kinova_grippers/collision/finger_knuckle.stl"/>
      </geometry>
    </collision>
    <inertial>
      <mass value="0.009127"/>
      <origin xyz="-0.016752 -0.013874 0.0"/>
      <inertia ixx="0.000002" ixy="0.000001" ixz="0.000000" iyx="0.000001" iyy="0.000001" iyz="0.000000" izx="0.000000" izy="0.000000" izz="0.000002"/>
    </inertial>
  </link>
  <gazebo reference="right_gripper_finger1_knuckle_link">
    <!--implicitSpringDamper>1</implicitSpringDamper-->
    <kp>1000000.0</kp>
    <kd>1.0</kd>
    <mu1>0.8</mu1>
    <mu2>0.8</mu2>
    <maxVel>0.0</maxVel>
    <minDepth>0.0001</minDepth>
  </gazebo>
  <joint name="right_gripper_finger2_joint" type="revolute">
    <parent link="right_gripper_base_link"/>
    <child link="right_gripper_finger2_knuckle_link"/>
    <axis xyz="0 0 1"/>
    <origin rpy="1.570796325 0 1.7555" xyz="0.022289 -0.027253 -0.11471"/>
    <limit damping="0.005" effort="3.0" friction="0.005" lower="0.0" upper="0.986111027" velocity="1.0"/>
    <mimic joint="right_gripper_finger1_joint"/>
  </joint>
  <link name="right_gripper_finger2_knuckle_link">
    <visual>
      <geometry>
        <mesh filename="meshes/manipulation/kinova_grippers/visual/finger_knuckle.dae"/>
      </geometry>
    </visual>
    <collision>
      <geometry>
        <mesh filename="meshes/manipulation/kinova_grippers/collision/finger_knuckle.stl"/>
      </geometry>
    </collision>
    <inertial>
      <mass value="0.009127"/>
      <origin xyz="-0.016752 -0.013874 0.0"/>
      <inertia ixx="0.000002" ixy="0.000001" ixz="0.000000" iyx="0.000001" iyy="0.000001" iyz="0.000000" izx="0.000000" izy="0.000000" izz="0.000002"/>
    </inertial>
  </link>
  <gazebo reference="right_gripper_finger2_knuckle_link">
    <!--implicitSpringDamper>1</implicitSpringDamper-->
    <kp>1000000.0</kp>
    <kd>1.0</kd>
    <mu1>0.8</mu1>
    <mu2>0.8</mu2>
    <maxVel>0.0</maxVel>
    <minDepth>0.0001</minDepth>
  </gazebo>
  <joint name="right_gripper_finger3_joint" type="revolute">
    <parent link="right_gripper_base_link"/>
    <child link="right_gripper_finger3_knuckle_link"/>
    <axis xyz="0 0 1"/>
    <origin rpy="1.570796325 0 1.3861" xyz="-0.022284 -0.027223 -0.11473"/>
    <limit damping="0.005" effort="3.0" friction="0.005" lower="0.0" upper="0.986111027" velocity="1.0"/>
    <mimic joint="right_gripper_finger1_joint"/>
  </joint>
  <link name="right_gripper_finger3_knuckle_link">
    <visual>
      <geometry>
        <mesh filename="meshes/manipulation/kinova_grippers/visual/finger_knuckle.dae"/>
      </geometry>
    </visual>
    <collision>
      <geometry>
        <mesh filename="meshes/manipulation/kinova_grippers/collision/finger_knuckle.stl"/>
      </geometry>
    </collision>
    <inertial>
      <mass value="0.009127"/>
      <origin xyz="-0.016752 -0.013874 0.0"/>
      <inertia ixx="0.000002" ixy="0.000001" ixz="0.000000" iyx="0.000001" iyy="0.000001" iyz="0.000000" izx="0.000000" izy="0.000000" izz="0.000002"/>
    </inertial>
  </link>
  <gazebo reference="right_gripper_finger3_knuckle_link">
    <!--implicitSpringDamper>1</implicitSpringDamper-->
    <kp>1000000.0</kp>
    <kd>1.0</kd>
    <mu1>0.8</mu1>
    <mu2>0.8</mu2>
    <maxVel>0.0</maxVel>
    <minDepth>0.0001</minDepth>
  </gazebo>
  <joint name="right_gripper_finger1_finger_tip_joint" type="fixed">
    <parent link="right_gripper_finger1_knuckle_link"/>
    <child link="right_gripper_finger1_finger_tip_link"/>
    <origin rpy="0 0 0" xyz="-0.0245981 -0.036051 0.0"/>
  </joint>
  <link name="right_gripper_finger1_finger_tip_link">
    <visual>
      <geometry>
        <mesh filename="meshes/manipulation/kinova_grippers/visual/finger_tip.dae"/>
      </geometry>
    </visual>
    <collision>
      <geometry>
        <mesh filename="meshes/manipulation/kinova_grippers/collision/finger_tip.stl"/>
      </geometry>
    </collision>
    <inertial>
      <mass value="0.012690"/>
      <origin xyz="-0.011926 -0.009701 0.0"/>
      <inertia ixx="0.000002" ixy="0.000001" ixz="0.000000" iyx="0.000001" iyy="0.000001" iyz="0.000000" izx="0.000000" izy="0.000000" izz="0.000002"/>
    </inertial>
  </link>
  <gazebo reference="right_gripper_finger1_finger_tip_link">
    <!--implicitSpringDamper>1</implicitSpringDamper-->
    <kp>1000000.0</kp>
    <kd>1.0</kd>
    <mu1>0.8</mu1>
    <mu2>0.8</mu2>
    <maxVel>0.0</maxVel>
    <minDepth>0.0001</minDepth>
  </gazebo>
  <joint name="right_gripper_finger2_finger_tip_joint" type="fixed">
    <parent link="right_gripper_finger2_knuckle_link"/>
    <child link="right_gripper_finger2_finger_tip_link"/>
    <origin rpy="0 0 0" xyz="-0.0245981 -0.036051 0.0"/>
  </joint>
  <link name="right_gripper_finger2_finger_tip_link">
    <visual>
      <geometry>
        <mesh filename="meshes/manipulation/kinova_grippers/visual/finger_tip.dae"/>
      </geometry>
    </visual>
    <collision>
      <geometry>
        <mesh filename="meshes/manipulation/kinova_grippers/collision/finger_tip.stl"/>
      </geometry>
    </collision>
    <inertial>
      <mass value="0.012690"/>
      <origin xyz="-0.011926 -0.009701 0.0"/>
      <inertia ixx="0.000002" ixy="0.000001" ixz="0.000000" iyx="0.000001" iyy="0.000001" iyz="0.000000" izx="0.000000" izy="0.000000" izz="0.000002"/>
    </inertial>
  </link>
  <gazebo reference="right_gripper_finger2_finger_tip_link">
    <!--implicitSpringDamper>1</implicitSpringDamper-->
    <kp>1000000.0</kp>
    <kd>1.0</kd>
    <mu1>0.8</mu1>
    <mu2>0.8</mu2>
    <maxVel>0.0</maxVel>
    <minDepth>0.0001</minDepth>
  </gazebo>
  <joint name="right_gripper_finger3_finger_tip_joint" type="fixed">
    <parent link="right_gripper_finger3_knuckle_link"/>
    <child link="right_gripper_finger3_finger_tip_link"/>
    <origin rpy="0 0 0" xyz="-0.0245981 -0.036051 0.0"/>
  </joint>
  <link name="right_gripper_finger3_finger_tip_link">
    <visual>
      <geometry>
        <mesh filename="meshes/manipulation/kinova_grippers/visual/finger_tip.dae"/>
      </geometry>
    </visual>
    <collision>
      <geometry>
        <mesh filename="meshes/manipulation/kinova_grippers/collision/finger_tip.stl"/>
      </geometry>
    </collision>
    <inertial>
      <mass value="0.012690"/>
      <origin xyz="-0.011926 -0.009701 0.0"/>
      <inertia ixx="0.000002" ixy="0.000001" ixz="0.000000" iyx="0.000001" iyy="0.000001" iyz="0.000000" izx="0.000000" izy="0.000000" izz="0.000002"/>
    </inertial>
  </link>
  <gazebo reference="right_gripper_finger3_finger_tip_link">
    <!--implicitSpringDamper>1</implicitSpringDamper-->
    <kp>1000000.0</kp>
    <kd>1.0</kd>
    <mu1>0.8</mu1>
    <mu2>0.8</mu2>
    <maxVel>0.0</maxVel>
    <minDepth>0.0001</minDepth>
  </gazebo>
  <transmission name="right_gripper_finger1_trans">
    <type>transmission_interface/SimpleTransmission</type>
    <joint name="right_gripper_finger1_joint">
      <hardwareInterface>EffortJointInterface</hardwareInterface>
    </joint>
    <actuator name="right_gripper_finger1_motor">
      <mechanicalReduction>1</mechanicalReduction>
      <hardwareInterface>EffortJointInterface</hardwareInterface>
    </actuator>
  </transmission>
  <gazebo>
    <!-- loading plugin: mimic joints works in gazebo now -->
    <plugin filename="libroboticsgroup_gazebo_mimic_joint_plugin.so" name="right_mimic_finger_1_2">
      <joint>right_gripper_finger1_joint</joint>
      <mimicJoint>right_gripper_finger2_joint</mimicJoint>
    </plugin>
    <!-- loading plugin: mimic joints works in gazebo now -->
    <plugin filename="libroboticsgroup_gazebo_mimic_joint_plugin.so" name="right_mimic_finger_1_3">
      <joint>right_gripper_finger1_joint</joint>
      <mimicJoint>right_gripper_finger3_joint</mimicJoint>
    </plugin>
  </gazebo>
  <joint name="left_gripper_base_joint" type="fixed">
    <parent link="left_ee_link"/>
    <child link="left_gripper_base_link"/>
    <origin rpy="-3.14159265 1.570796325 0" xyz="-0.16 0 0"/>
  </joint>
  <link name="left_gripper_base_link">
    <visual>
      <geometry>
        <mesh filename="meshes/manipulation/kinova_grippers/visual/kg3_base_link.dae"/>
      </geometry>
    </visual>
    <collision>
      <geometry>
        <mesh filename="meshes/manipulation/kinova_grippers/collision/kg3_base_link.stl"/>
      </geometry>
    </collision>
    <inertial>
      <mass value="0.799312"/>
      <origin xyz="0.000007 -0.005175 -0.067280"/>
      <inertia ixx="0.000790" ixy="0.000000" ixz="0.000004" iyx="0.000000" iyy="0.000650" iyz="0.000003" izx="0.000004" izy="0.000003" izz="0.000823"/>
    </inertial>
  </link>
  <gazebo reference="left_gripper_base_link">
    <!--implicitSpringDamper>1</implicitSpringDamper-->
    <kp>1000000.0</kp>
    <kd>1.0</kd>
    <mu1>0.8</mu1>
    <mu2>0.8</mu2>
    <maxVel>0.0</maxVel>
    <minDepth>0.0001</minDepth>
  </gazebo>
  <joint name="left_gripper_finger1_joint" type="revolute">
    <parent link="left_gripper_base_link"/>
    <child link="left_gripper_finger1_knuckle_link"/>
    <axis xyz="0 0 1"/>
    <origin rpy="1.4676 -0.0092813 -1.7501" xyz="-0.0027954 0.031318 -0.11464"/>
    <limit damping="0.005" effort="3.0" friction="0.005" lower="0.0" upper="0.986111027" velocity="1.0"/>
  </joint>
  <link name="left_gripper_finger1_knuckle_link">
    <visual>
      <geometry>
        <mesh filename="meshes/manipulation/kinova_grippers/visual/finger_knuckle.dae"/>
      </geometry>
    </visual>
    <collision>
      <geometry>
        <mesh filename="meshes/manipulation/kinova_grippers/collision/finger_knuckle.stl"/>
      </geometry>
    </collision>
    <inertial>
      <mass value="0.009127"/>
      <origin xyz="-0.016752 -0.013874 0.0"/>
      <inertia ixx="0.000002" ixy="0.000001" ixz="0.000000" iyx="0.000001" iyy="0.000001" iyz="0.000000" izx="0.000000" izy="0.000000" izz="0.000002"/>
    </inertial>
  </link>
  <gazebo reference="left_gripper_finger1_knuckle_link">
    <!--implicitSpringDamper>1</implicitSpringDamper-->
    <kp>1000000.0</kp>
    <kd>1.0</kd>
    <mu1>0.8</mu1>
    <mu2>0.8</mu2>
    <maxVel>0.0</maxVel>
    <minDepth>0.0001</minDepth>
  </gazebo>
  <joint name="left_gripper_finger2_joint" type="revolute">
    <parent link="left_gripper_base_link"/>
    <child link="left_gripper_finger2_knuckle_link"/>
    <axis xyz="0 0 1"/>
    <origin rpy="1.570796325 0 1.7555" xyz="0.022289 -0.027253 -0.11471"/>
    <limit damping="0.005" effort="3.0" friction="0.005" lower="0.0" upper="0.986111027" velocity="1.0"/>
    <mimic joint="left_gripper_finger1_joint"/>
  </joint>
  <link name="left_gripper_finger2_knuckle_link">
    <visual>
      <geometry>
        <mesh filename="meshes/manipulation/kinova_grippers/visual/finger_knuckle.dae"/>
      </geometry>
    </visual>
    <collision>
      <geometry>
        <mesh filename="meshes/manipulation/kinova_grippers/collision/finger_knuckle.stl"/>
      </geometry>
    </collision>
    <inertial>
      <mass value="0.009127"/>
      <origin xyz="-0.016752 -0.013874 0.0"/>
      <inertia ixx="0.000002" ixy="0.000001" ixz="0.000000" iyx="0.000001" iyy="0.000001" iyz="0.000000" izx="0.000000" izy="0.000000" izz="0.000002"/>
    </inertial>
  </link>
  <gazebo reference="left_gripper_finger2_knuckle_link">
    <!--implicitSpringDamper>1</implicitSpringDamper-->
    <kp>1000000.0</kp>
    <kd>1.0</kd>
    <mu1>0.8</mu1>
    <mu2>0.8</mu2>
    <maxVel>0.0</maxVel>
    <minDepth>0.0001</minDepth>
  </gazebo>
  <joint name="left_gripper_finger3_joint" type="revolute">
    <parent link="left_gripper_base_link"/>
    <child link="left_gripper_finger3_knuckle_link"/>
    <axis xyz="0 0 1"/>
    <origin rpy="1.570796325 0 1.3861" xyz="-0.022284 -0.027223 -0.11473"/>
    <limit damping="0.005" effort="3.0" friction="0.005" lower="0.0" upper="0.986111027" velocity="1.0"/>
    <mimic joint="left_gripper_finger1_joint"/>
  </joint>
  <link name="left_gripper_finger3_knuckle_link">
    <visual>
      <geometry>
        <mesh filename="meshes/manipulation/kinova_grippers/visual/finger_knuckle.dae"/>
      </geometry>
    </visual>
    <collision>
      <geometry>
        <mesh filename="meshes/manipulation/kinova_grippers/collision/finger_knuckle.stl"/>
      </geometry>
    </collision>
    <inertial>
      <mass value="0.009127"/>
      <origin xyz="-0.016752 -0.013874 0.0"/>
      <inertia ixx="0.000002" ixy="0.000001" ixz="0.000000" iyx="0.000001" iyy="0.000001" iyz="0.000000" izx="0.000000" izy="0.000000" izz="0.000002"/>
    </inertial>
  </link>
  <gazebo reference="left_gripper_finger3_knuckle_link">
    <!--implicitSpringDamper>1</implicitSpringDamper-->
    <kp>1000000.0</kp>
    <kd>1.0</kd>
    <mu1>0.8</mu1>
    <mu2>0.8</mu2>
    <maxVel>0.0</maxVel>
    <minDepth>0.0001</minDepth>
  </gazebo>
  <joint name="left_gripper_finger1_finger_tip_joint" type="fixed">
    <parent link="left_gripper_finger1_knuckle_link"/>
    <child link="left_gripper_finger1_finger_tip_link"/>
    <origin rpy="0 0 0" xyz="-0.0245981 -0.036051 0.0"/>
  </joint>
  <link name="left_gripper_finger1_finger_tip_link">
    <visual>
      <geometry>
        <mesh filename="meshes/manipulation/kinova_grippers/visual/finger_tip.dae"/>
      </geometry>
    </visual>
    <collision>
      <geometry>
        <mesh filename="meshes/manipulation/kinova_grippers/collision/finger_tip.stl"/>
      </geometry>
    </collision>
    <inertial>
      <mass value="0.012690"/>
      <origin xyz="-0.011926 -0.009701 0.0"/>
      <inertia ixx="0.000002" ixy="0.000001" ixz="0.000000" iyx="0.000001" iyy="0.000001" iyz="0.000000" izx="0.000000" izy="0.000000" izz="0.000002"/>
    </inertial>
  </link>
  <gazebo reference="left_gripper_finger1_finger_tip_link">
    <!--implicitSpringDamper>1</implicitSpringDamper-->
    <kp>1000000.0</kp>
    <kd>1.0</kd>
    <mu1>0.8</mu1>
    <mu2>0.8</mu2>
    <maxVel>0.0</maxVel>
    <minDepth>0.0001</minDepth>
  </gazebo>
  <joint name="left_gripper_finger2_finger_tip_joint" type="fixed">
    <parent link="left_gripper_finger2_knuckle_link"/>
    <child link="left_gripper_finger2_finger_tip_link"/>
    <origin rpy="0 0 0" xyz="-0.0245981 -0.036051 0.0"/>
  </joint>
  <link name="left_gripper_finger2_finger_tip_link">
    <visual>
      <geometry>
        <mesh filename="meshes/manipulation/kinova_grippers/visual/finger_tip.dae"/>
      </geometry>
    </visual>
    <collision>
      <geometry>
        <mesh filename="meshes/manipulation/kinova_grippers/collision/finger_tip.stl"/>
      </geometry>
    </collision>
    <inertial>
      <mass value="0.012690"/>
      <origin xyz="-0.011926 -0.009701 0.0"/>
      <inertia ixx="0.000002" ixy="0.000001" ixz="0.000000" iyx="0.000001" iyy="0.000001" iyz="0.000000" izx="0.000000" izy="0.000000" izz="0.000002"/>
    </inertial>
  </link>
  <gazebo reference="left_gripper_finger2_finger_tip_link">
    <!--implicitSpringDamper>1</implicitSpringDamper-->
    <kp>1000000.0</kp>
    <kd>1.0</kd>
    <mu1>0.8</mu1>
    <mu2>0.8</mu2>
    <maxVel>0.0</maxVel>
    <minDepth>0.0001</minDepth>
  </gazebo>
  <joint name="left_gripper_finger3_finger_tip_joint" type="fixed">
    <parent link="left_gripper_finger3_knuckle_link"/>
    <child link="left_gripper_finger3_finger_tip_link"/>
    <origin rpy="0 0 0" xyz="-0.0245981 -0.036051 0.0"/>
  </joint>
  <link name="left_gripper_finger3_finger_tip_link">
    <visual>
      <geometry>
        <mesh filename="meshes/manipulation/kinova_grippers/visual/finger_tip.dae"/>
      </geometry>
    </visual>
    <collision>
      <geometry>
        <mesh filename="meshes/manipulation/kinova_grippers/collision/finger_tip.stl"/>
      </geometry>
    </collision>
    <inertial>
      <mass value="0.012690"/>
      <origin xyz="-0.011926 -0.009701 0.0"/>
      <inertia ixx="0.000002" ixy="0.000001" ixz="0.000000" iyx="0.000001" iyy="0.000001" iyz="0.000000" izx="0.000000" izy="0.000000" izz="0.000002"/>
    </inertial>
  </link>
  <gazebo reference="left_gripper_finger3_finger_tip_link">
    <!--implicitSpringDamper>1</implicitSpringDamper-->
    <kp>1000000.0</kp>
    <kd>1.0</kd>
    <mu1>0.8</mu1>
    <mu2>0.8</mu2>
    <maxVel>0.0</maxVel>
    <minDepth>0.0001</minDepth>
  </gazebo>
  <transmission name="left_gripper_finger1_trans">
    <type>transmission_interface/SimpleTransmission</type>
    <joint name="left_gripper_finger1_joint">
      <hardwareInterface>EffortJointInterface</hardwareInterface>
    </joint>
    <actuator name="left_gripper_finger1_motor">
      <mechanicalReduction>1</mechanicalReduction>
      <hardwareInterface>EffortJointInterface</hardwareInterface>
    </actuator>
  </transmission>
  <gazebo>
    <!-- loading plugin: mimic joints works in gazebo now -->
    <plugin filename="libroboticsgroup_gazebo_mimic_joint_plugin.so" name="left_mimic_finger_1_2">
      <joint>left_gripper_finger1_joint</joint>
      <mimicJoint>left_gripper_finger2_joint</mimicJoint>
    </plugin>
    <!-- loading plugin: mimic joints works in gazebo now -->
    <plugin filename="libroboticsgroup_gazebo_mimic_joint_plugin.so" name="left_mimic_finger_1_3">
      <joint>left_gripper_finger1_joint</joint>
      <mimicJoint>left_gripper_finger3_joint</mimicJoint>
    </plugin>
  </gazebo>
  <gazebo>
    <plugin filename="libgazebo_grasp_fix.so" name="gazebo_right_grasp_fix">
      <arm>
        <arm_name>right_arm</arm_name>
        <palm_link> right_wrist_3_link </palm_link>
        <gripper_link> right_gripper_finger1_knuckle_link </gripper_link>
        <gripper_link> right_gripper_finger2_knuckle_link </gripper_link>
        <gripper_link> right_gripper_finger3_knuckle_link </gripper_link>
      </arm>
      <forces_angle_tolerance>100</forces_angle_tolerance>
      <update_rate>50</update_rate>
      <grip_count_threshold>1</grip_count_threshold>
      <max_grip_count>8</max_grip_count>
      <release_tolerance>0.006</release_tolerance>
      <disable_collisions_on_attach>true</disable_collisions_on_attach>
      <contact_topic>right_gripper/contacts</contact_topic>
    </plugin>
  </gazebo>
  <gazebo>
    <plugin filename="libgazebo_grasp_fix.so" name="gazebo_left_grasp_fix">
      <arm>
        <arm_name>left_arm</arm_name>
        <palm_link> left_wrist_3_link </palm_link>
        <gripper_link> left_gripper_finger1_knuckle_link </gripper_link>
        <gripper_link> left_gripper_finger2_knuckle_link </gripper_link>
        <gripper_link> left_gripper_finger3_knuckle_link </gripper_link>
      </arm>
      <forces_angle_tolerance>100</forces_angle_tolerance>
      <update_rate>50</update_rate>
      <grip_count_threshold>1</grip_count_threshold>
      <max_grip_count>8</max_grip_count>
      <release_tolerance>0.006</release_tolerance>
      <disable_collisions_on_attach>true</disable_collisions_on_attach>
      <contact_topic>left_gripper/contacts</contact_topic>
    </plugin>
  </gazebo>
</robot>
